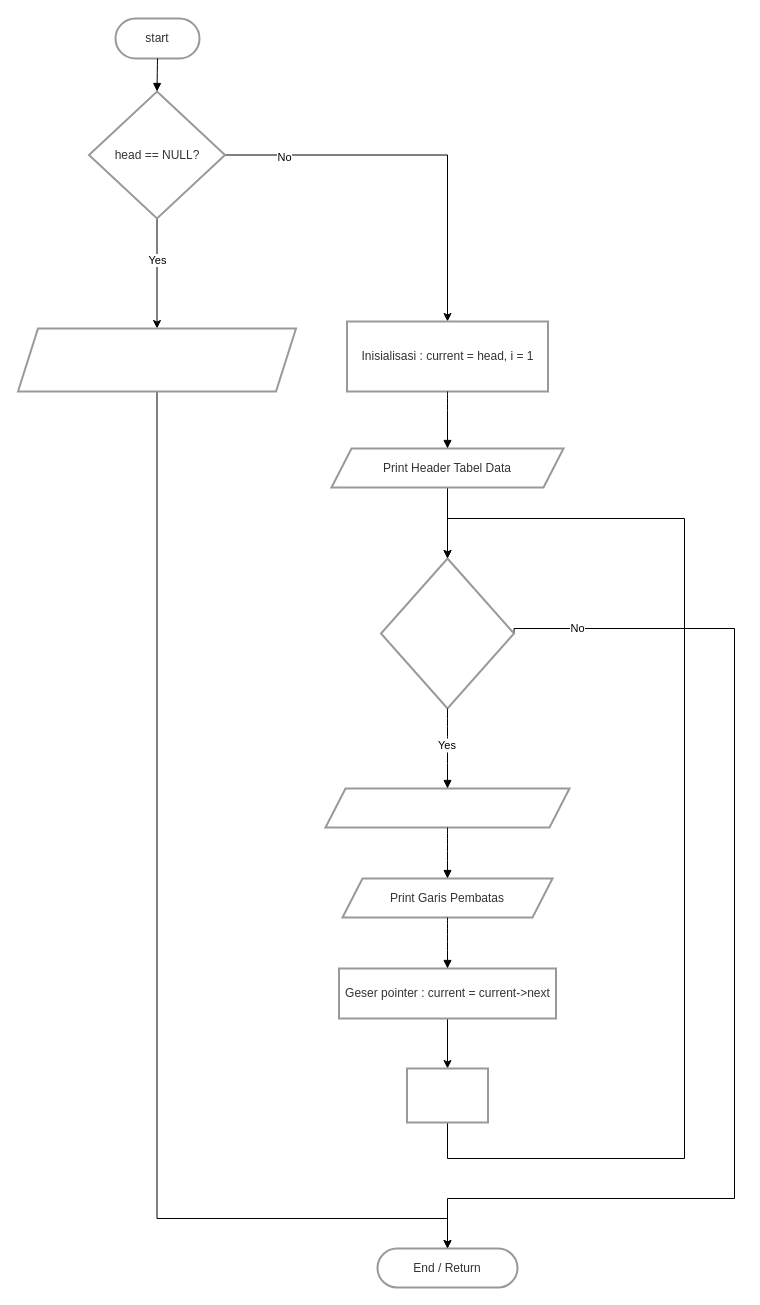
Image size: 760x1305. Some labels were removed from this diagram. The shapes that lost their labels are listed below. From the top down, each one's box as (x1, y1, x2, y2) in pixels, then its label:
(16, 327, 296, 392): Cetak "Data inventaris masih kosong."
(380, 557, 514, 709): current != NULL?
(324, 787, 570, 828): Print Data Barang saat ini
(406, 1067, 488, 1123): i++
